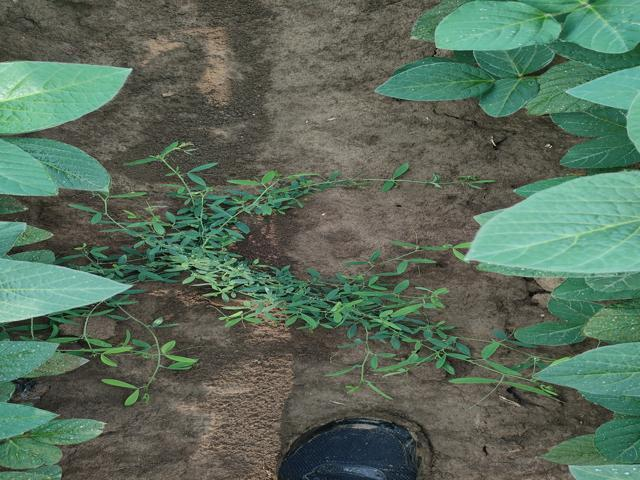bad weed: (101, 133, 510, 397)
